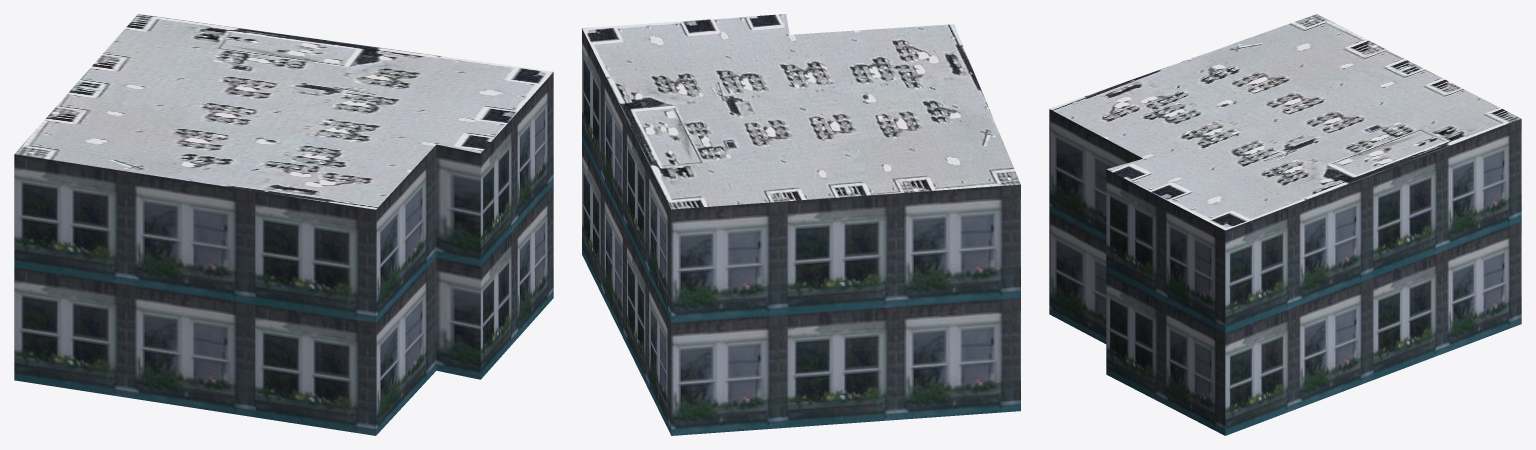
Rendered from ResTex__2802.fbx.
3 views of the same model, side by side, from view 1: azimuth 30°, elevation 25°; view 2: azimuth 150°, elevation 25°; view 3: azimuth 270°, elevation 25° (orthographic). The views are drawn at different scales.
Visible parts, largest first — view 1: CityEngineMaterial_11_m, CityEngineMaterial_m; view 2: CityEngineMaterial_11_m, CityEngineMaterial_m; view 3: CityEngineMaterial_11_m, CityEngineMaterial_m.
Boxes of the visible parts, x1,y1,x2,y2 form: CityEngineMaterial_11_m: (14, 72, 553, 435); CityEngineMaterial_m: (14, 14, 553, 209); CityEngineMaterial_11_m: (582, 29, 1020, 435); CityEngineMaterial_m: (582, 14, 1020, 209); CityEngineMaterial_11_m: (1049, 109, 1521, 435); CityEngineMaterial_m: (1050, 14, 1520, 230).
Size of the model in its own units: 13.57 by 6 by 12.5.
Materials: 2 (2 with a texture image).
